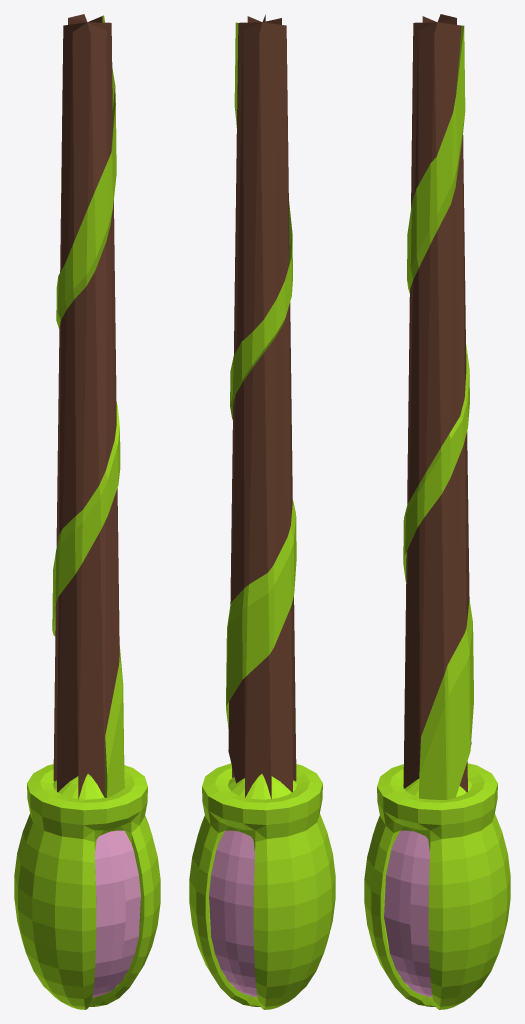
Rendered from wand_v2.fbx.
The picture shows the model from 3 angles, left to right: view 1: azimuth 30°, elevation 25°; view 2: azimuth 150°, elevation 25°; view 3: azimuth 330°, elevation 25°; orthographic projection.
Visible parts, largest first — view 1: wand.001; view 2: wand.001; view 3: wand.001.
Part boxes in pixels (<box>): wand.001: <box>14,14,160,1009</box>; wand.001: <box>189,14,335,1009</box>; wand.001: <box>364,14,510,1009</box>.
Bounding box in the file's own units: 382 × 2887 × 348.
